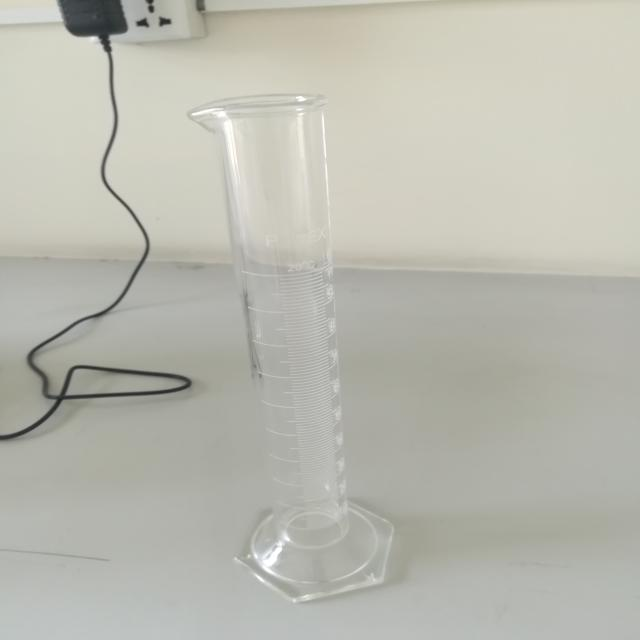Measuring_Cylinder: (153, 66, 440, 624)
